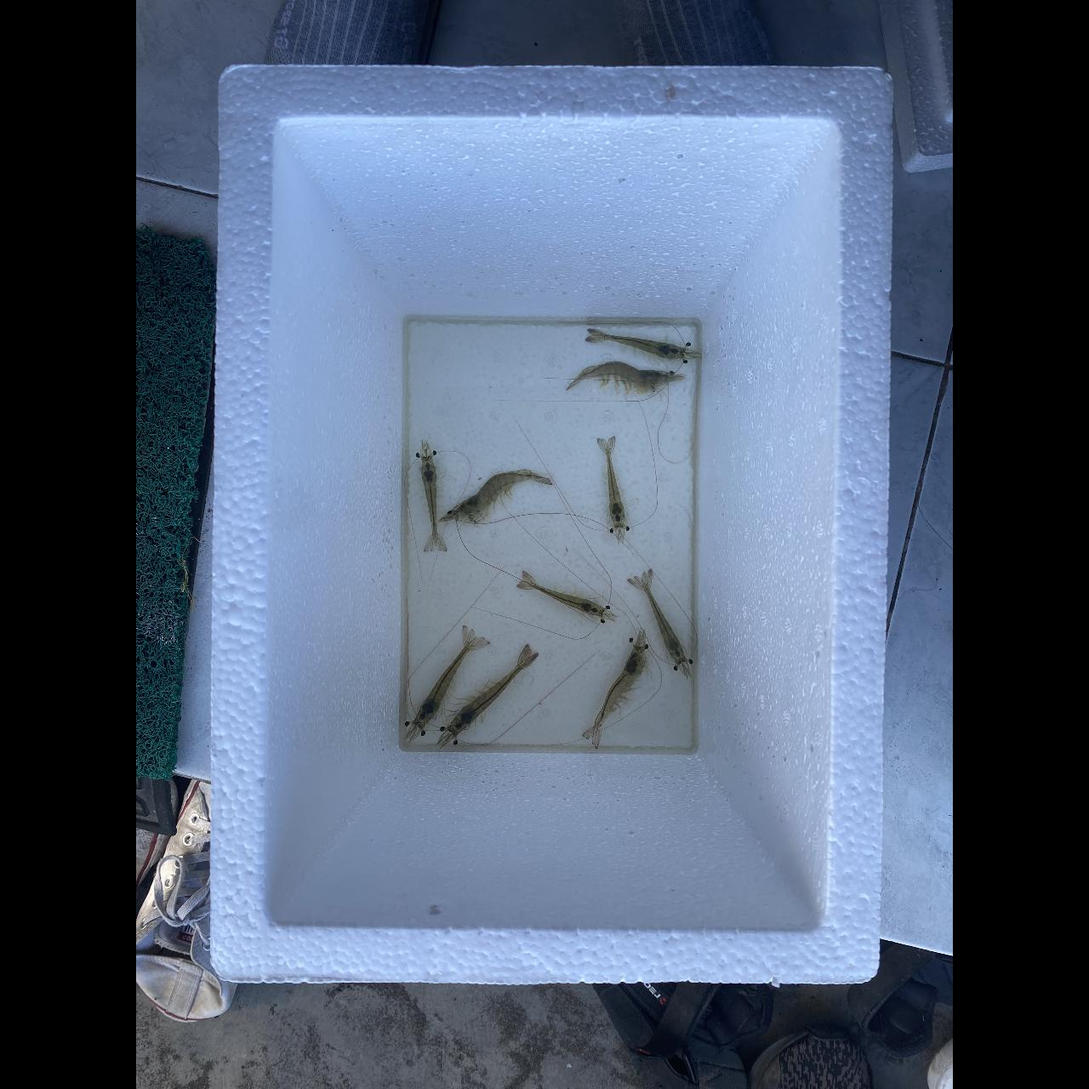side_shrimp: (592, 654, 643, 741), (458, 471, 551, 514), (567, 362, 667, 389)
top_shrimp: (452, 657, 530, 733), (415, 638, 476, 725), (641, 578, 685, 661), (523, 581, 603, 615), (591, 334, 684, 358), (607, 442, 625, 527), (421, 460, 437, 547)
